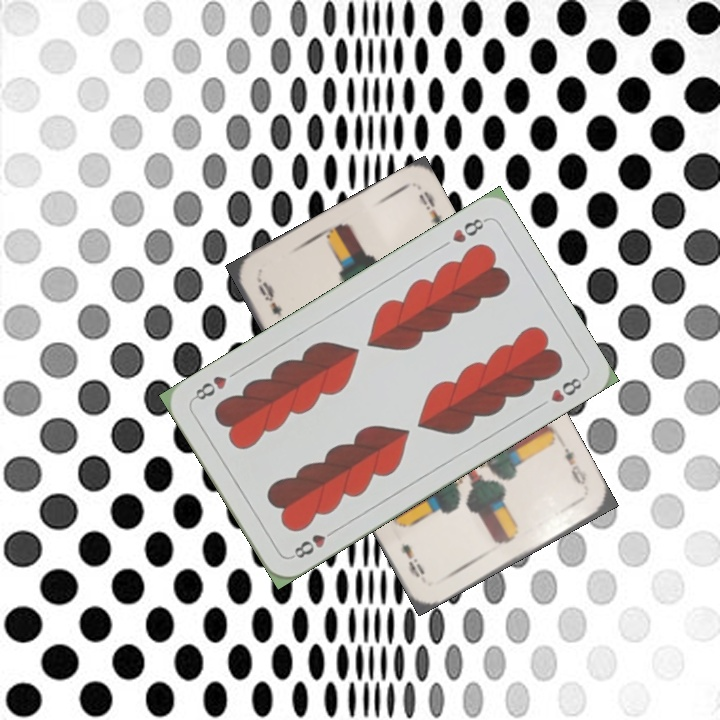E9: (556, 438, 590, 488), (253, 275, 285, 319)
H8: (287, 524, 340, 561), (448, 214, 490, 246)
